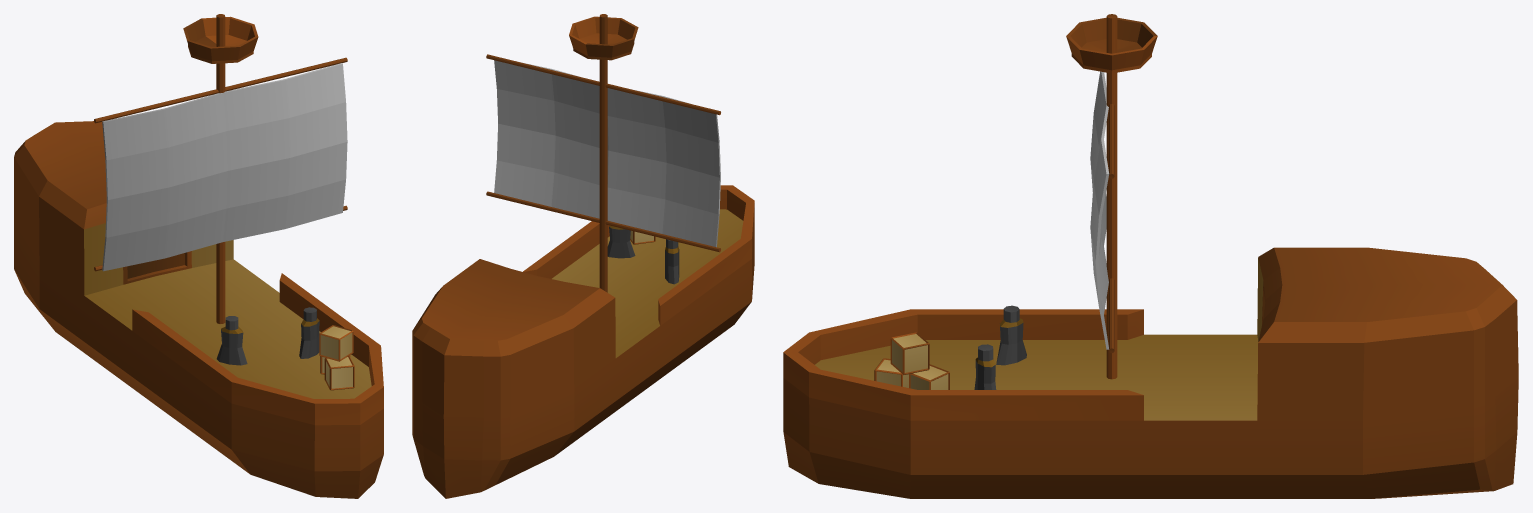
Rendered from Boat.glb.
The picture shows the model from 3 angles, left to right: view 1: azimuth 30°, elevation 25°; view 2: azimuth 150°, elevation 25°; view 3: azimuth 270°, elevation 25°; orthographic projection. The views are drawn at different scales.
Visible parts, largest first — view 1: Boat; view 2: Boat; view 3: Boat.
Part boxes in pixels (x1,y1,x2,y2): Boat: (14,14,383,498); Boat: (412,14,754,498); Boat: (783,14,1518,498).
Bounding box in the file's own units: 12.03 × 18.33 × 25.87.
Materials: 1 (1 with a texture image).
